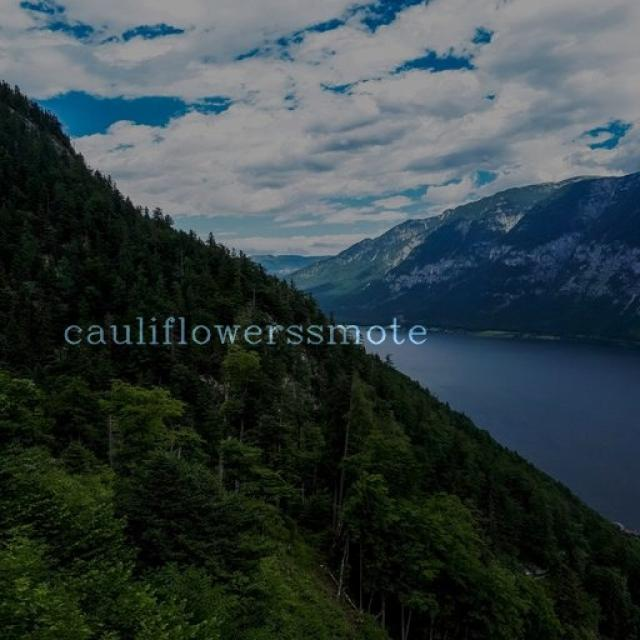watermark: (52, 315, 429, 349)
